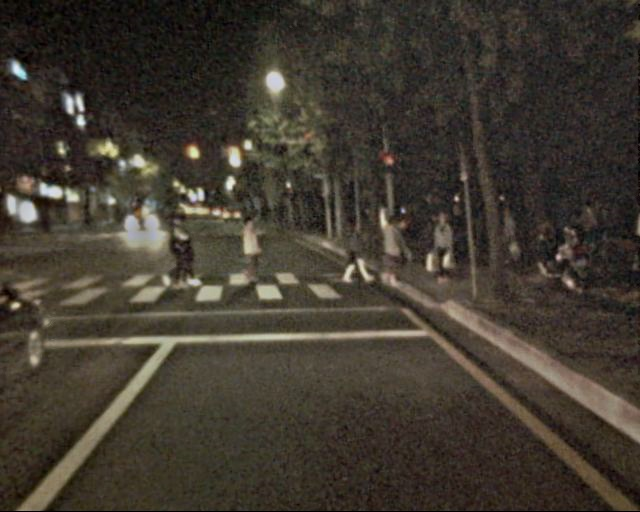person: (161, 211, 193, 290), (428, 212, 460, 289), (335, 212, 366, 288), (374, 216, 405, 291), (492, 201, 523, 276), (233, 215, 262, 285), (445, 203, 474, 273), (418, 210, 445, 277)
